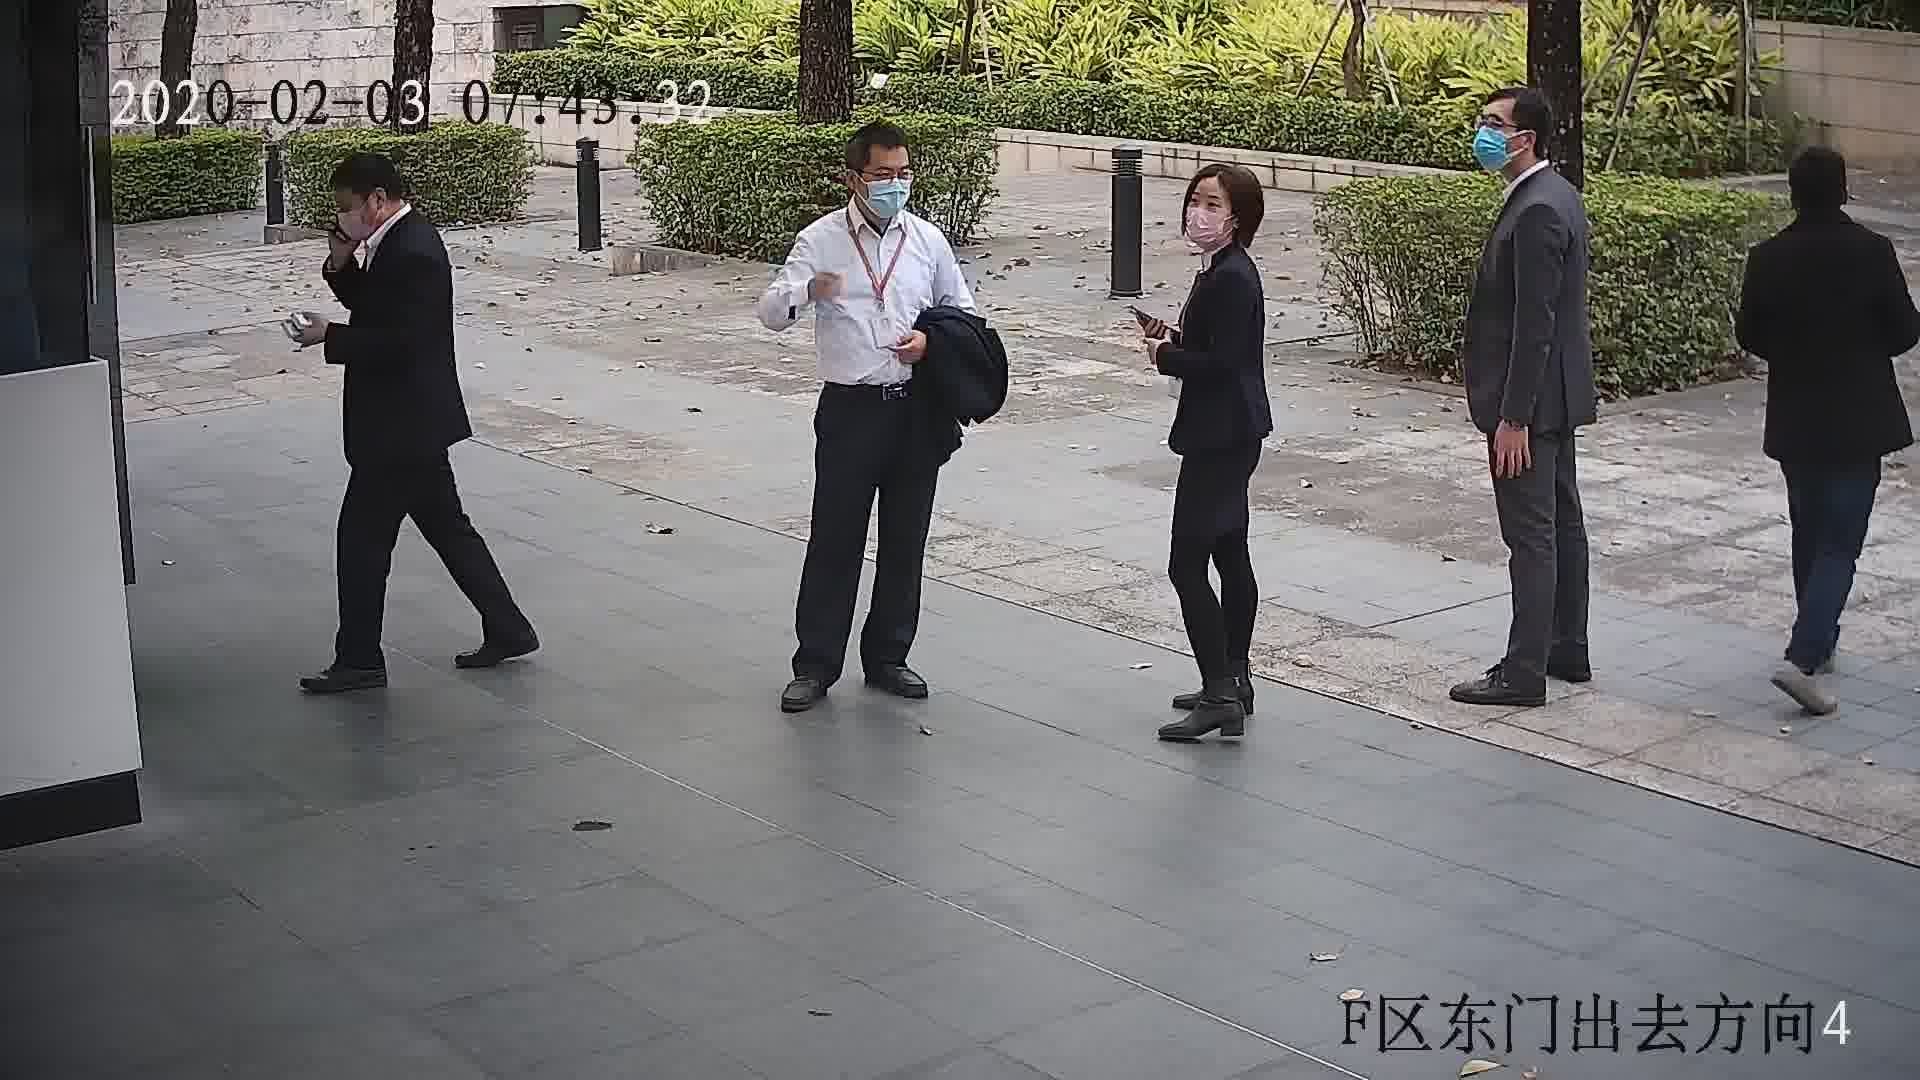face: (856, 141, 916, 219), (1473, 89, 1523, 177), (1180, 172, 1234, 245), (329, 188, 387, 245)
mask: (861, 174, 915, 222), (1180, 201, 1230, 250), (1471, 126, 1513, 183), (332, 207, 378, 236)
person: (1749, 140, 1898, 291), (796, 121, 948, 261), (324, 150, 452, 283), (1480, 82, 1589, 230), (1174, 164, 1273, 303)
